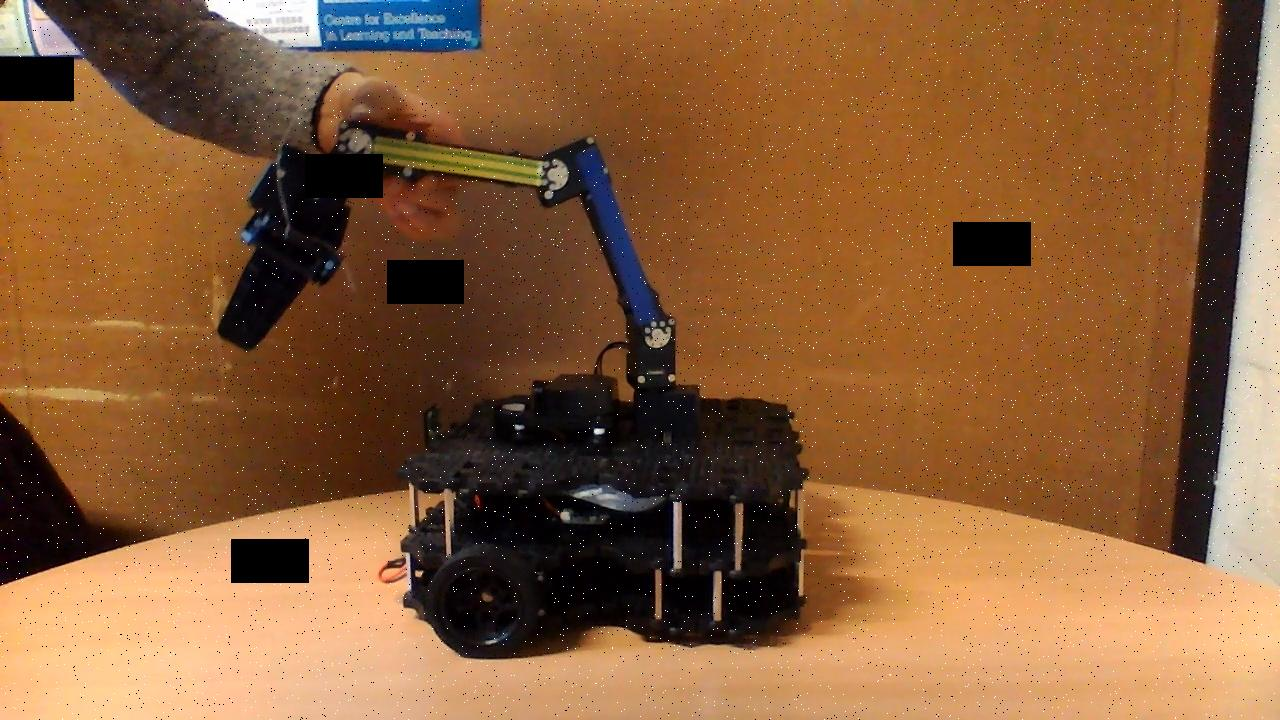Arm: (574, 134, 676, 352)
Hand: (212, 141, 357, 356)
Wrist: (336, 116, 575, 211)
base: (375, 371, 814, 662)
